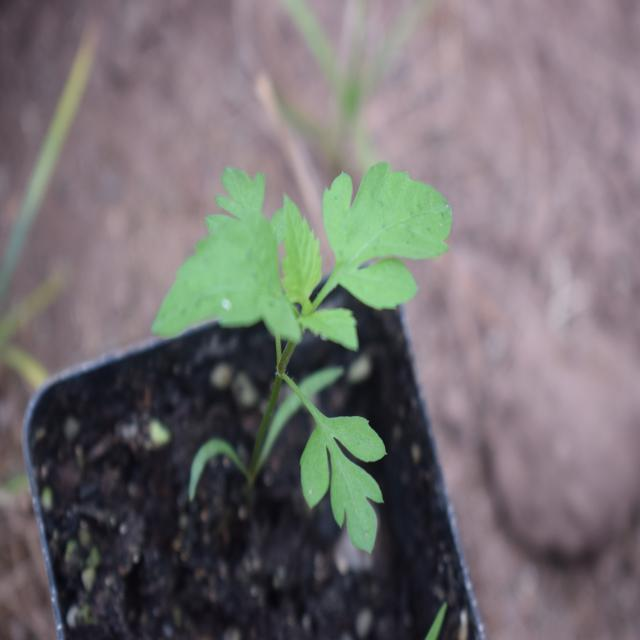Bidens pilosa: (156, 144, 466, 564)
